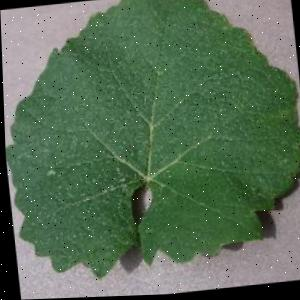Folha: (0, 0, 300, 287)
